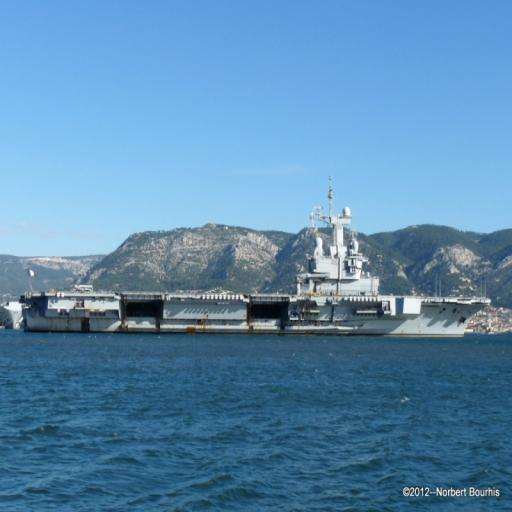Portanaves: (19, 173, 497, 341)
